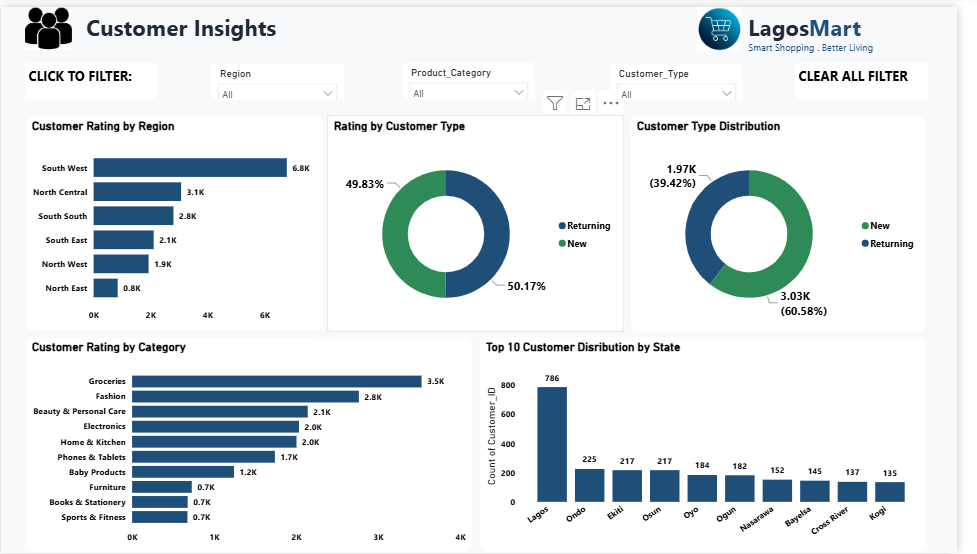

The dashboard page shown, as its layout file describes it:
{"tool":"powerbi","page":{"name":"Customer Insights","canvas":[1366,780],"ordinal":3},"visuals":[{"type":"image","box":[34.4,0,67,63],"z":0},{"type":"textbox","box":[116,0,292.7,84.2],"z":1000},{"type":"image","box":[992.8,0,67,63],"z":2000},{"type":"textbox","box":[1061.8,0,212,80],"z":3000},{"type":"donutChart","title":"Customer Type Distribution","fields":{"Category":["Cleaned_LagosMart_Data.Customer_Type"],"Y":["CountNonNull(Cleaned_LagosMart_Data.Transaction_ID)"]},"box":[898.9,154.2,425,309.9],"z":4000},{"type":"barChart","title":"Customer Rating by Category","fields":{"Category":["Cleaned_LagosMart_Data.Product_Category"],"Y":["Avg(Cleaned_LagosMart_Data.Customer_Rating)"]},"box":[33.8,470,640,309.9],"z":5000},{"type":"clusteredBarChart","title":"Customer Rating by Region","fields":{"Y":["Sum(Cleaned_LagosMart_Data.Customer_Rating)"],"Category":["Cleaned_LagosMart_Data.Region"]},"box":[33.8,154.2,425,309],"z":6000},{"type":"clusteredColumnChart","title":"Top 10 Customer Disribution by State","fields":{"Category":["Cleaned_LagosMart_Data.State"],"Y":["CountNonNull(Cleaned_LagosMart_Data.Customer_ID)"]},"box":[683,470,640.4,309.9],"z":7000},{"type":"donutChart","title":"Distribution of Customer Rating by Customer Type","fields":{"Category":["Cleaned_LagosMart_Data.Customer_Type"],"Y":["Cleaned_LagosMart_Data.Average Customer Rating"]},"box":[465.6,154.2,425,309.9],"z":8000},{"type":"textbox","box":[34.4,79.8,190,52],"z":9000},{"type":"textbox","box":[1133.9,79.3,190,52.9],"z":10000},{"type":"slicer","fields":{"Values":["Cleaned_LagosMart_Data.Region"]},"box":[299.6,80.8,190,52],"z":11000},{"type":"slicer","fields":{"Values":["Cleaned_LagosMart_Data.Product_Category"]},"box":[572.8,79.3,190,52],"z":12000},{"type":"slicer","fields":{"Values":["Cleaned_LagosMart_Data.Customer_Type"]},"box":[869.5,80.8,190,52],"z":13000},{"type":"image","box":[1048.7,298.2,45,45.5],"z":14000}]}

Visuals, with their boxes in screenshot pixels (x1, y1, x2, y2), scaled from the page's 1366x780 canvas onto the 977x554 screenshot:
image: x1=25, y1=0, x2=73, y2=45
textbox: x1=83, y1=0, x2=292, y2=60
image: x1=710, y1=0, x2=758, y2=45
textbox: x1=759, y1=0, x2=911, y2=57
"Customer Type Distribution" donutChart: x1=643, y1=110, x2=947, y2=330
"Customer Rating by Category" barChart: x1=24, y1=334, x2=482, y2=553
"Customer Rating by Region" clusteredBarChart: x1=24, y1=110, x2=328, y2=329
"Top 10 Customer Disribution by State" clusteredColumnChart: x1=488, y1=334, x2=947, y2=553
"Distribution of Customer Rating by Customer Type" donutChart: x1=333, y1=110, x2=637, y2=330
textbox: x1=25, y1=57, x2=160, y2=94
textbox: x1=811, y1=56, x2=947, y2=94
slicer - Cleaned_LagosMart_Data.Region: x1=214, y1=57, x2=350, y2=94
slicer - Cleaned_LagosMart_Data.Product_Category: x1=410, y1=56, x2=546, y2=93
slicer - Cleaned_LagosMart_Data.Customer_Type: x1=622, y1=57, x2=758, y2=94
image: x1=750, y1=212, x2=782, y2=244
